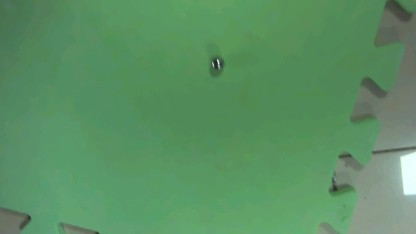ironball: (205, 52, 225, 73)
